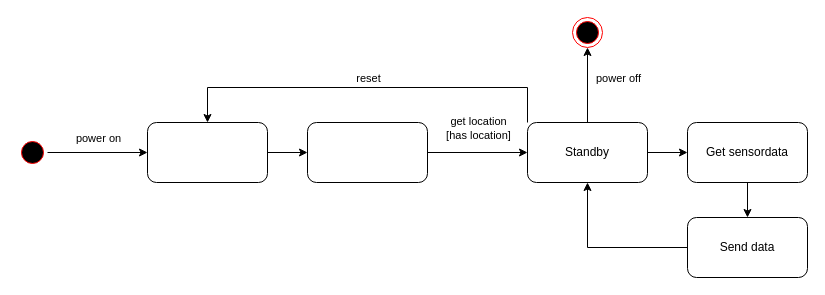
Image size: 825x295. Some labels were removed from this diagram. The shapes that lost their labels are listed below. From the top down, each one's centre as x and y in pixels, then its label:
(207,152): MCU boot
(367,152): Get GPS location
